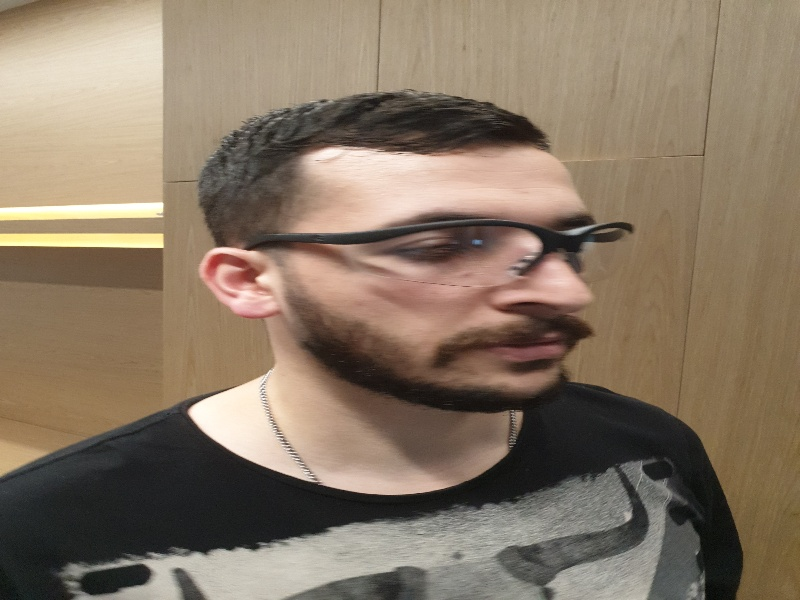Gozluk: (233, 220, 633, 292)
